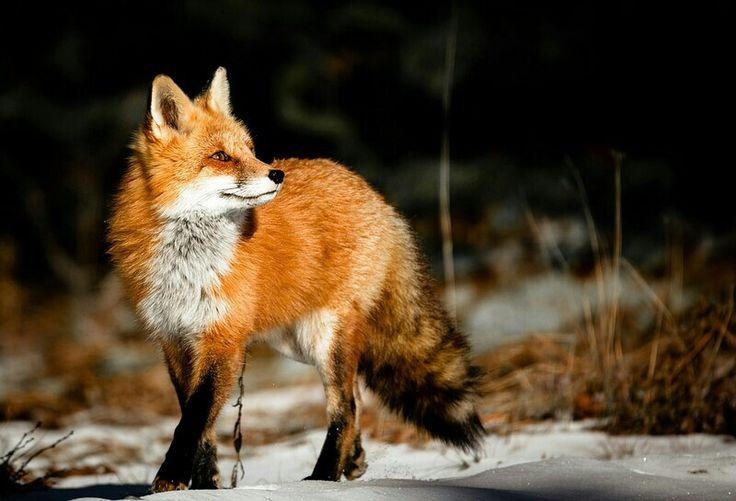fox: (102, 64, 492, 501)
